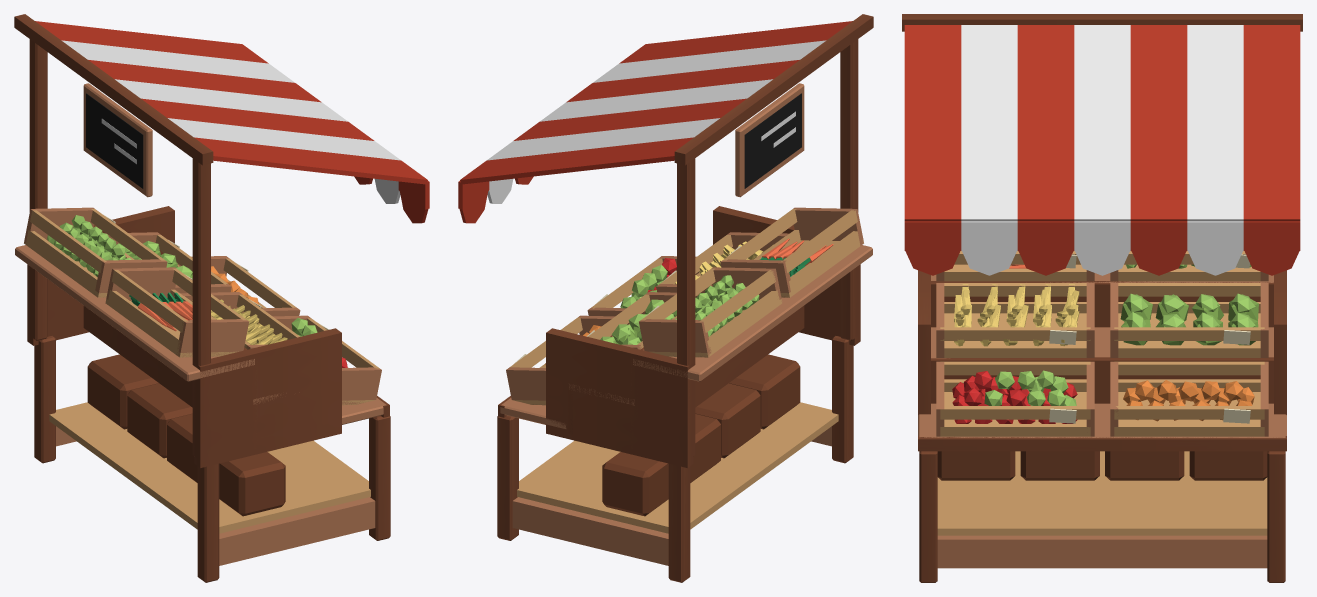
File: SM_Build_SM_Store_ProduceStand_01.fbx
3 renders of one model, left to right at view 1: azimuth 30°, elevation 25°; view 2: azimuth 150°, elevation 25°; view 3: azimuth 270°, elevation 25°, orthographic. The views are drawn at different scales.
Visible parts, largest first — view 1: SM_Store_ProduceStand_01; view 2: SM_Store_ProduceStand_01; view 3: SM_Store_ProduceStand_01.
Part boxes in pixels (box(x1,y1,x2,y2)): SM_Store_ProduceStand_01: box(14, 14, 429, 582); SM_Store_ProduceStand_01: box(458, 14, 873, 582); SM_Store_ProduceStand_01: box(902, 14, 1302, 582).
Bounding box in the file's own units: 1.1 × 1.96 × 1.52.
